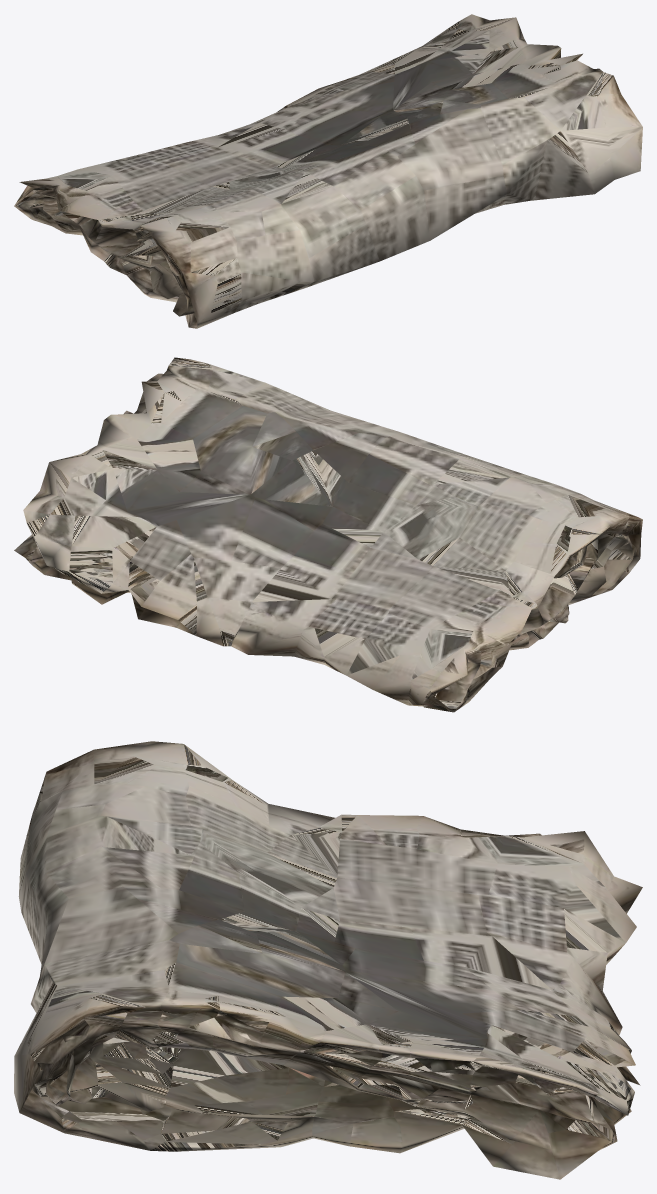
The model's file is newspaper.glb.
3 renders of one model, top to bottom at view 1: azimuth 30°, elevation 25°; view 2: azimuth 150°, elevation 25°; view 3: azimuth 270°, elevation 25°, orthographic. The views are drawn at different scales.
Size of the model in its own units: 1.99 by 0.5573 by 1.44.
Materials: 1 (1 with a texture image).
